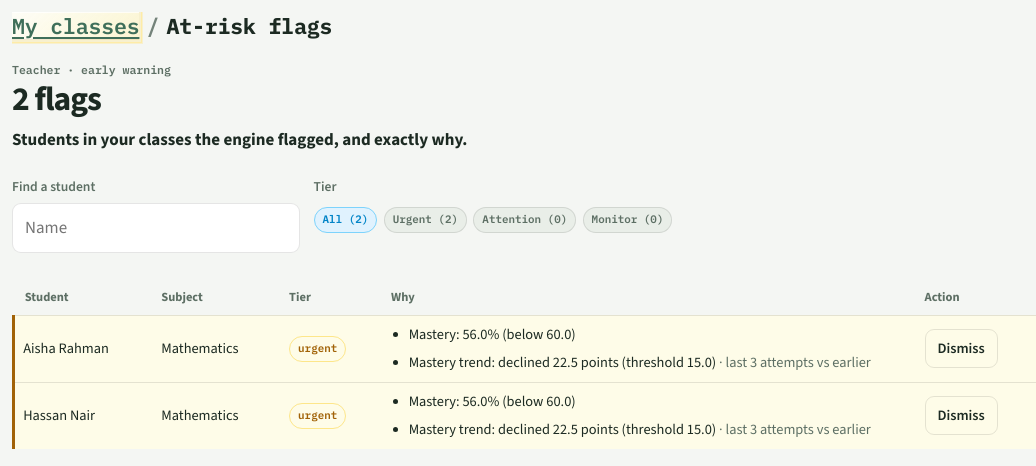
it: AtRiskPage › finds a flag by the student's name
This screenshot has width=1036, height=466.
Expected: the text "Aisha Rahman" is shown, [14,315,150,382]
Type "Hassan" into the field labelled "Find a student".
click(156, 228); type("Hassan")  # box [12,203,300,253]
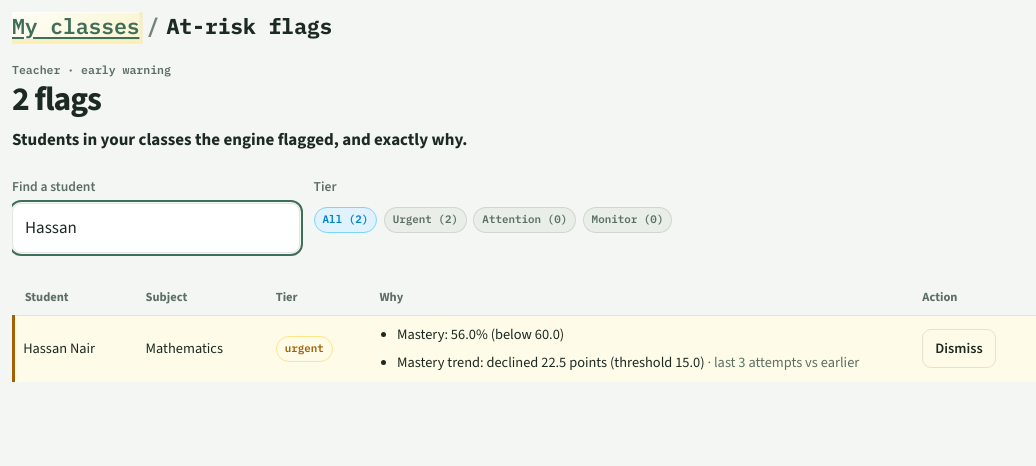
Expected: the text "Hassan Nair" is shown, [14,315,134,382]
Now the text "Aisha Rahman" is gone
